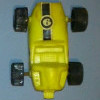amarillo_norte: (12, 2, 88, 98)
